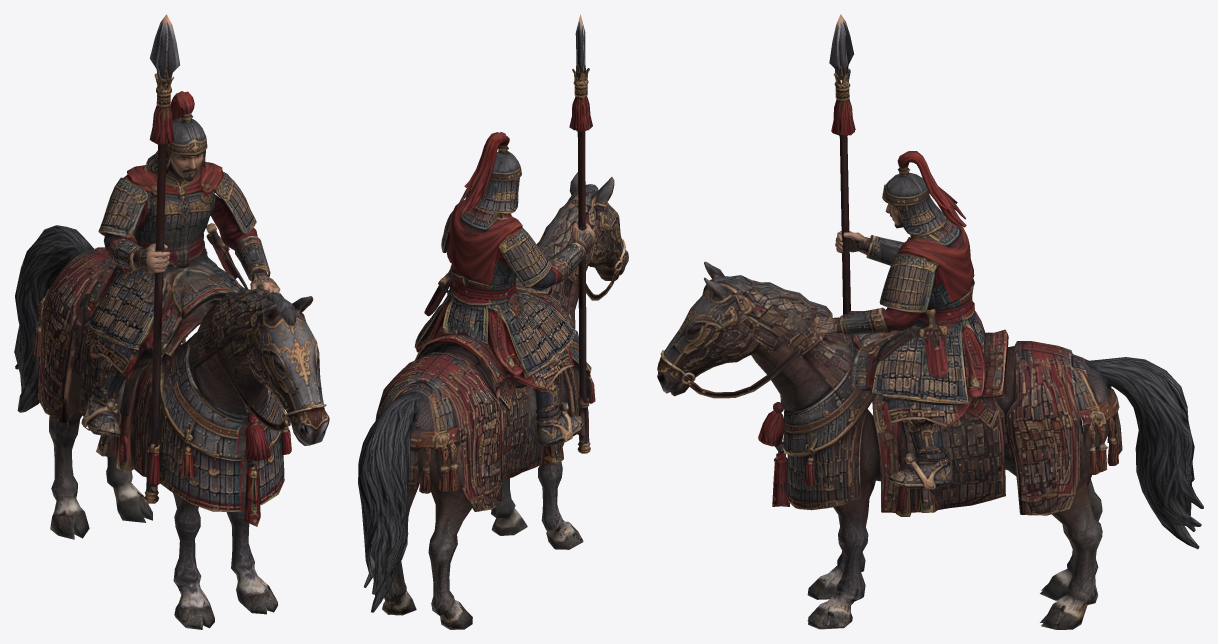
Rendered from mounted-warrior.glb.
3 renders of one model, left to right at view 1: azimuth 30°, elevation 25°; view 2: azimuth 150°, elevation 25°; view 3: azimuth 270°, elevation 25°, orthographic. The views are drawn at different scales.
Parts seen in each view (by area): view 1: tripo_0a65bd05_6d5d_474b_8626_8806d07870e5; view 2: tripo_0a65bd05_6d5d_474b_8626_8806d07870e5; view 3: tripo_0a65bd05_6d5d_474b_8626_8806d07870e5.
Boxes of the visible parts, x1=… form: tripo_0a65bd05_6d5d_474b_8626_8806d07870e5: x1=14, y1=14, x2=329, y2=629; tripo_0a65bd05_6d5d_474b_8626_8806d07870e5: x1=358, y1=14, x2=628, y2=629; tripo_0a65bd05_6d5d_474b_8626_8806d07870e5: x1=657, y1=14, x2=1203, y2=629.
Size of the model in its own units: 0.3071 by 0.9995 by 0.8696.
1 material, 1 textured.
